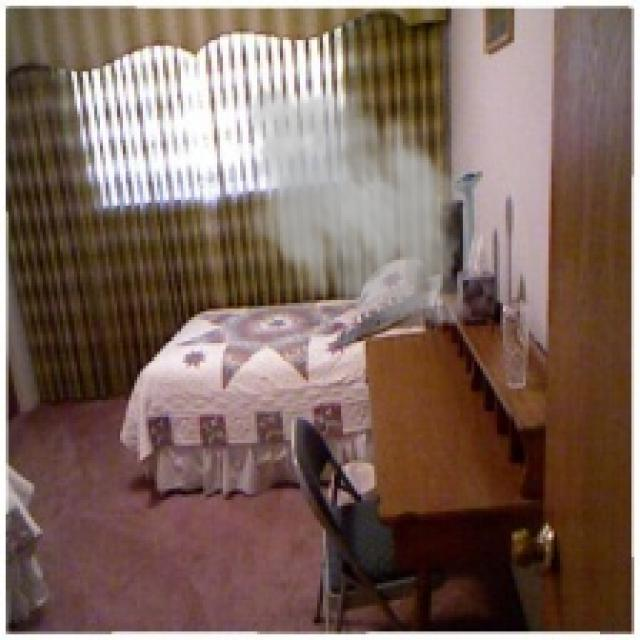smoke: (226, 77, 483, 337)
